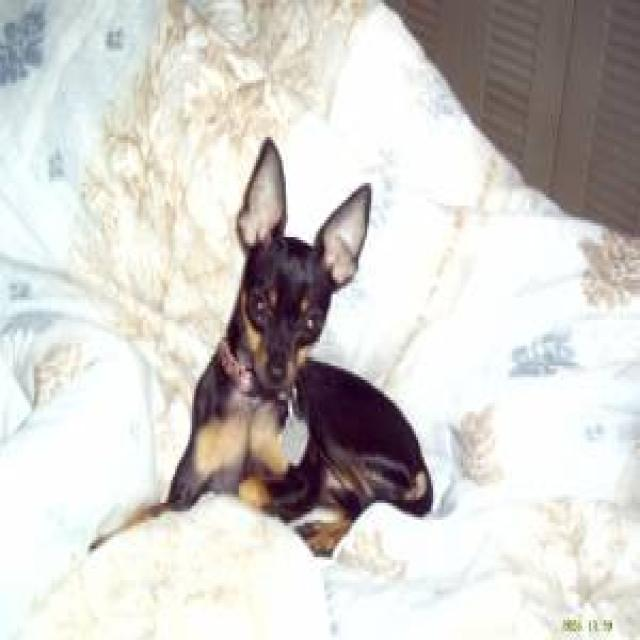dog-miniature_pinscher: (98, 126, 442, 551)
